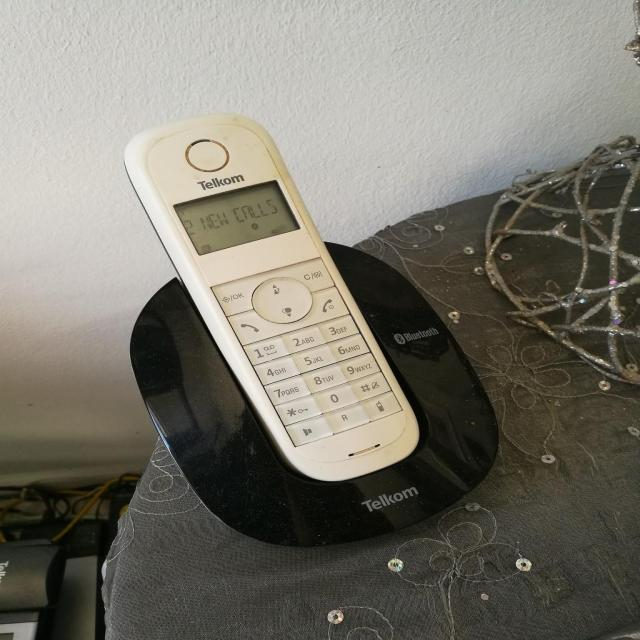Phone: (114, 106, 504, 549)
